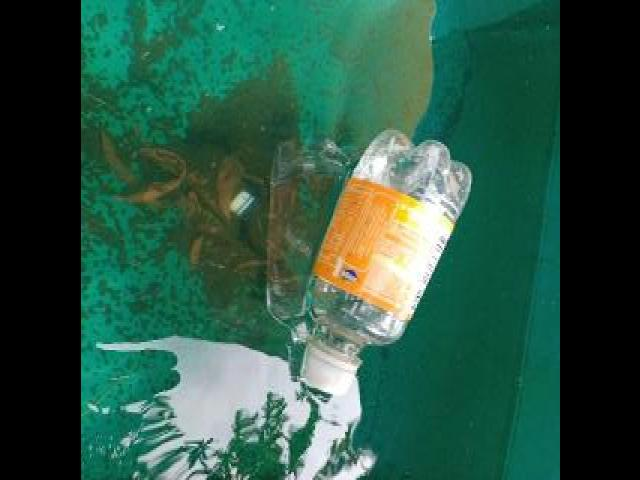Bottle: (292, 120, 476, 403)
